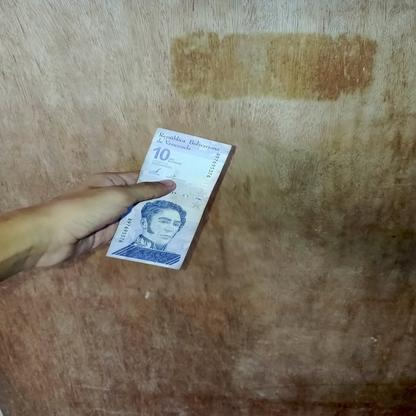ten-front-vef: (107, 127, 232, 270)
